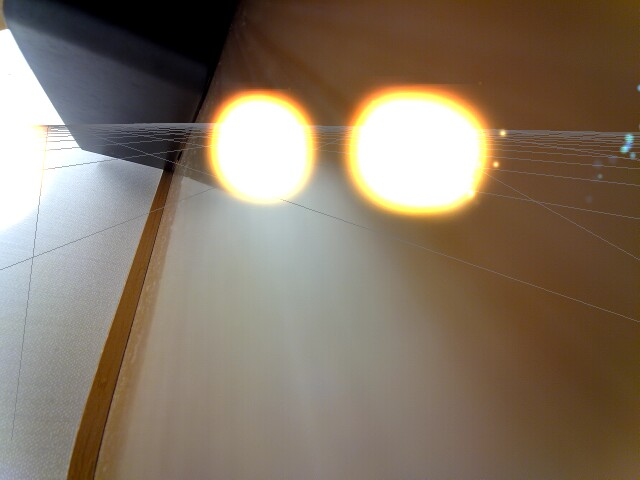firebig: (343, 83, 497, 227)
